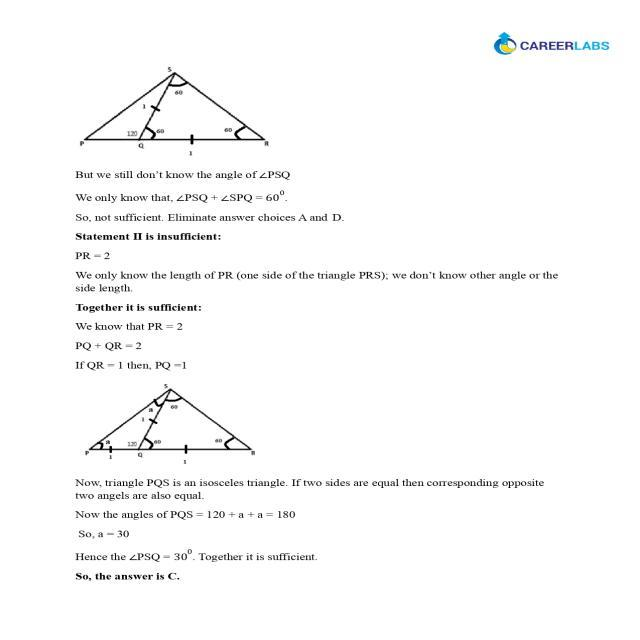Description: (54, 59, 586, 590)
Question_Paper_Area: (54, 59, 586, 590)
